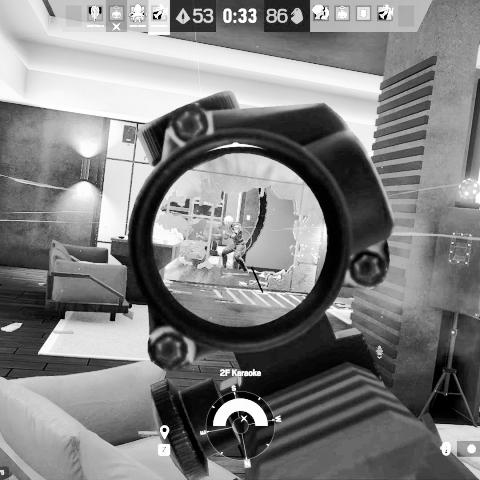Character: (220, 214, 250, 274)
Head: (224, 215, 235, 228)
